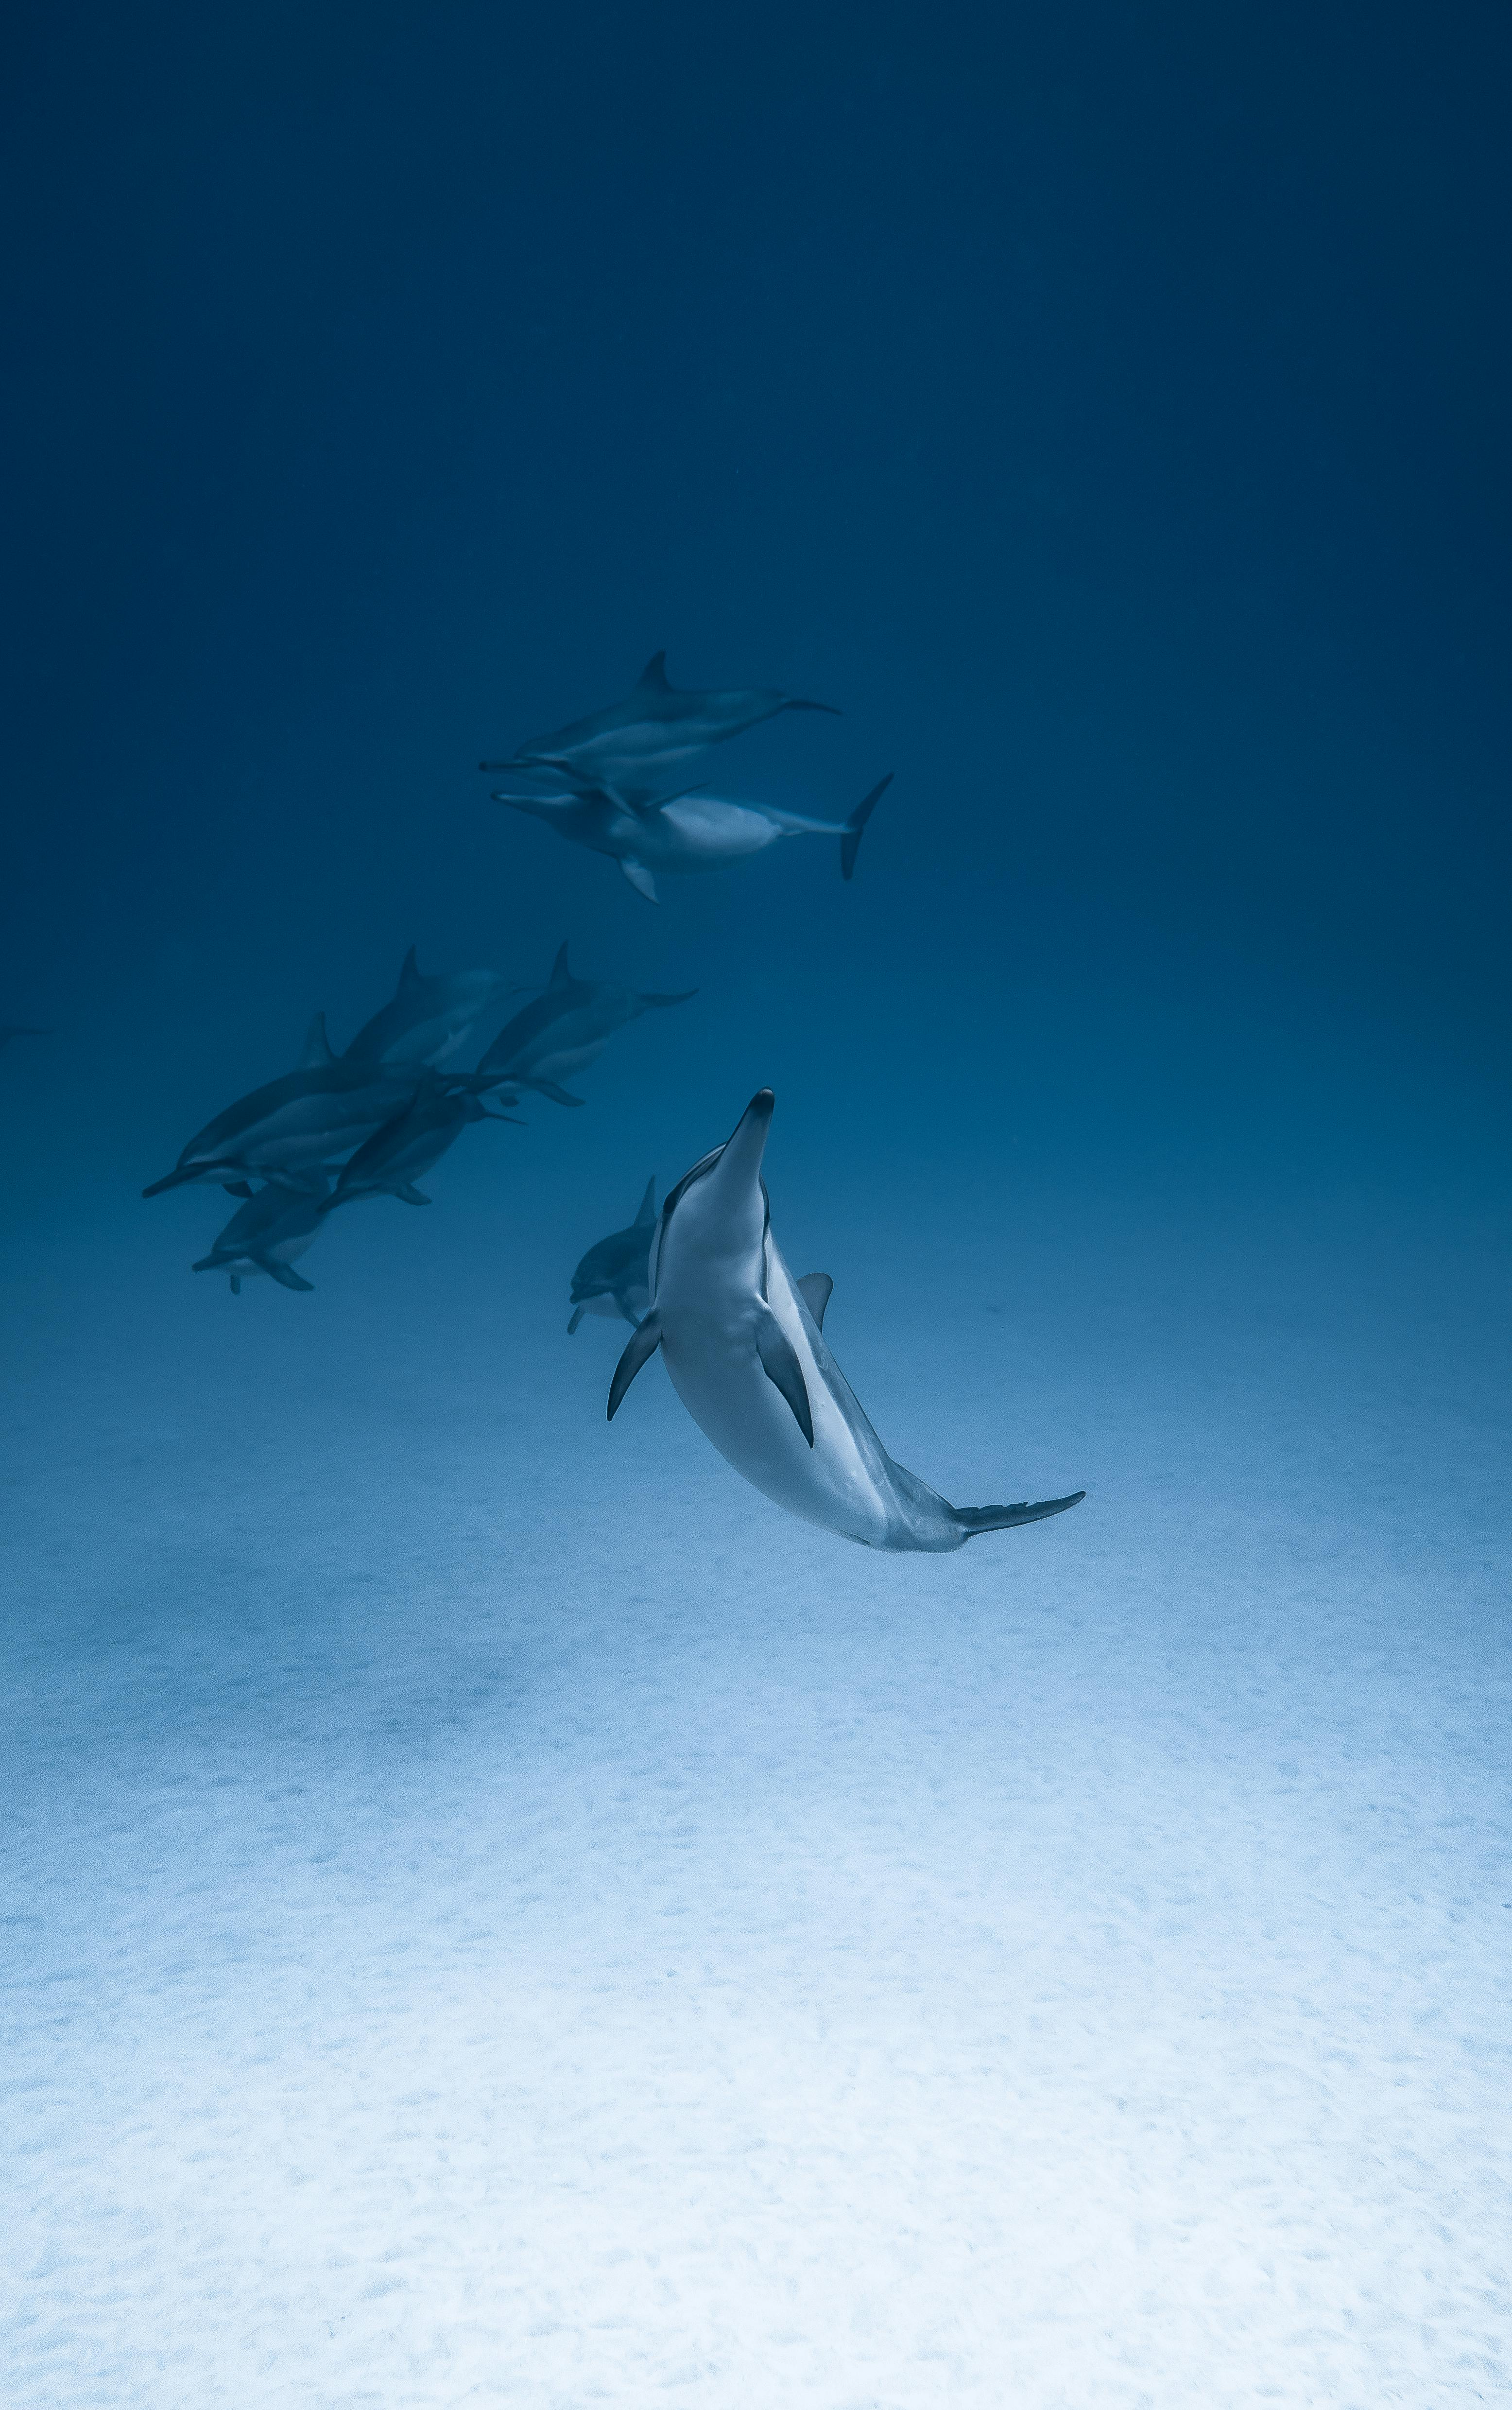dolphin: (608, 1037, 1089, 1554), (479, 626, 866, 824), (143, 1012, 434, 1209), (496, 779, 901, 904), (479, 929, 695, 1114), (327, 1065, 510, 1220), (341, 925, 524, 1079), (188, 1166, 362, 1300), (563, 1180, 660, 1349)
